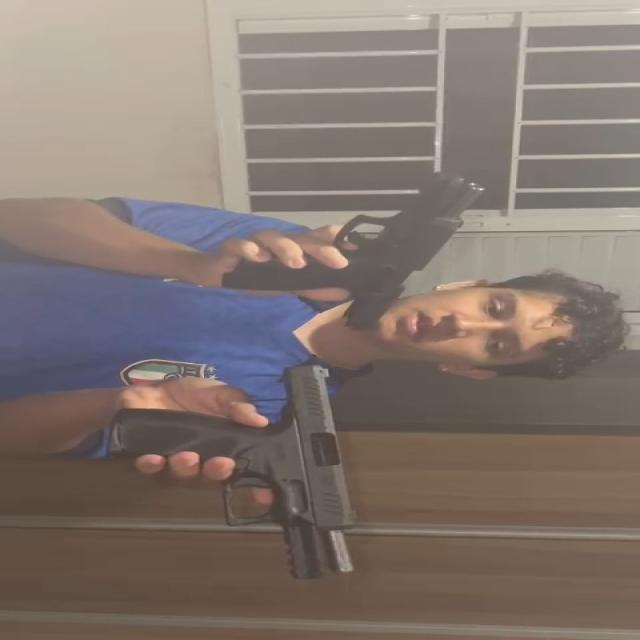gun: (102, 360, 360, 583), (216, 170, 488, 332)
